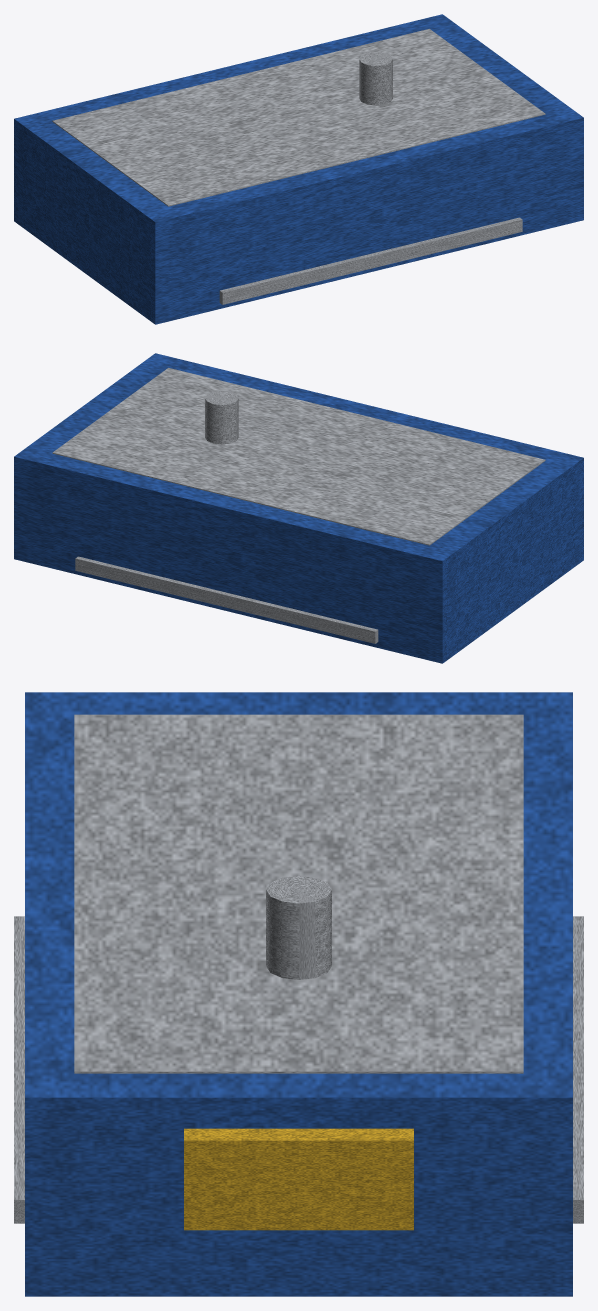
File: chassis_small.obj
3 views of the same model, one above another, from view 1: azimuth 30°, elevation 25°; view 2: azimuth 150°, elevation 25°; view 3: azimuth 270°, elevation 25° (orthographic). The views are drawn at different scales.
Bounding box in the file's own units: 0.3605 × 0.1116 × 0.208.
Materials: 4 (4 with a texture image).
